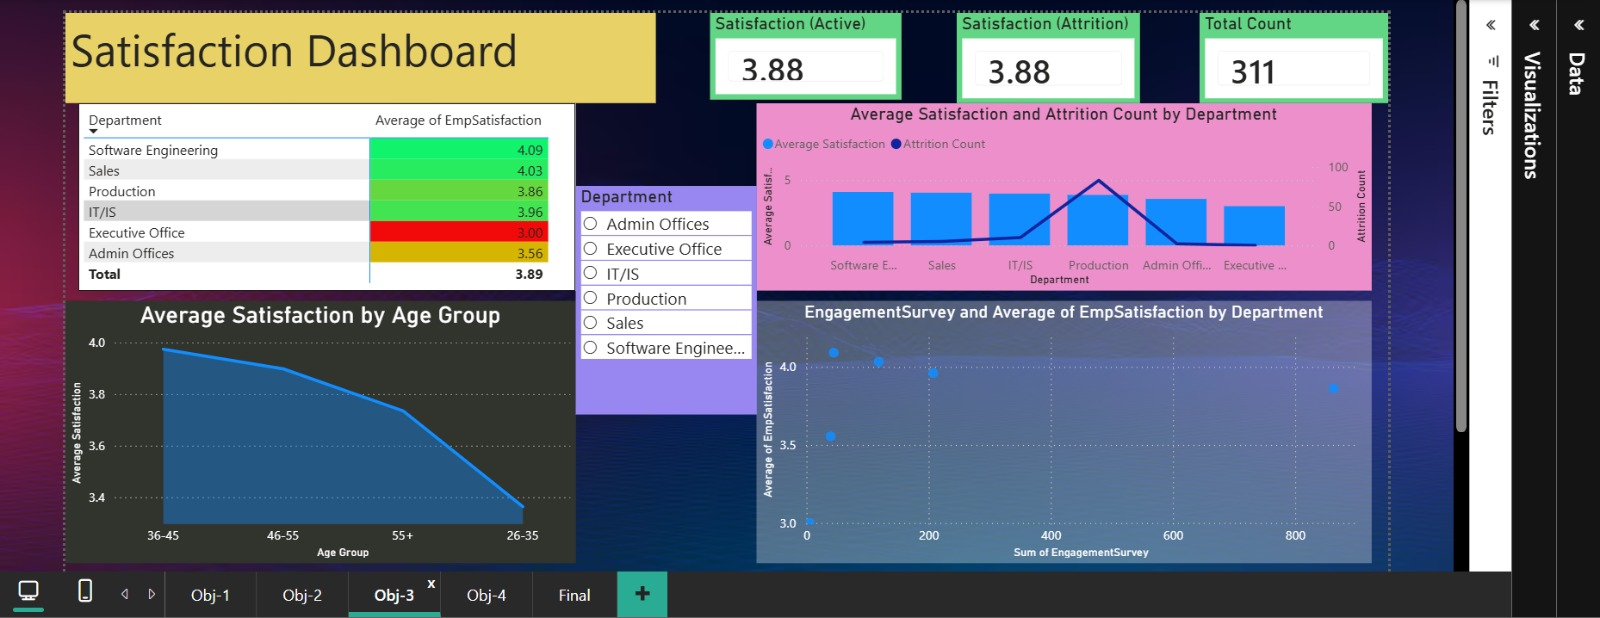

The dashboard page shown, as its layout file describes it:
{"tool":"powerbi","page":{"name":"Obj-3","canvas":[1280,720],"ordinal":2},"visuals":[{"type":"pivotTable","fields":{"Rows":["HRDataset_v14.Department"],"Values":["Avg(HRDataset_v14.EmpSatisfaction)"]},"box":[12.5,87.5,481.2,181.2],"z":0},{"type":"areaChart","fields":{"Category":["HRDataset_v14.Age Group"],"Y":["HRDataset_v14.Average Satisfaction"]},"box":[0,278.8,493.8,253.8],"z":1000},{"type":"scatterChart","title":" EngagementSurvey and Average of EmpSatisfaction by Department","fields":{"X":["Sum(HRDataset_v14.EngagementSurvey)"],"Y":["Avg(HRDataset_v14.EmpSatisfaction)"],"Category":["HRDataset_v14.Department"]},"box":[668.8,278.8,595,253.8],"z":2000},{"type":"lineClusteredColumnComboChart","fields":{"Y":["HRDataset_v14.Average Satisfaction"],"Y2":["HRDataset_v14.Attrition Count"],"Category":["HRDataset_v14.Department"]},"box":[668.8,87.5,595,181.2],"z":3000},{"type":"cardVisual","title":"Satisfaction (Attrition)","fields":{"Data":["HRDataset_v14.Satisfaction (Attrition)"]},"box":[862.5,0,177.5,87.5],"z":4000},{"type":"textbox","box":[0,0,571.2,87.5],"z":5000},{"type":"listSlicer","fields":{"Values":["HRDataset_v14.Department"]},"box":[493.8,167.5,175,221.2],"z":6000},{"type":"cardVisual","title":"Satisfaction (Active)","fields":{"Data":["HRDataset_v14.Satisfaction (Attrition)"]},"box":[623.8,0,185,83.8],"z":7000},{"type":"cardVisual","title":"Total Count","fields":{"Data":["HRDataset_v14.Total Employees"]},"box":[1097.5,0,182.5,87.5],"z":8000}]}

Visuals, with their boxes on the page's 1280x720 design canvas (x1, y1, x2, y2). These are canvas units, not pixel positions in the 1600x618 screenshot, which may show the page scaled, cropped or inside an application window:
pivotTable - HRDataset_v14.Department x Avg(HRDataset_v14.EmpSatisfaction): 12 88 494 269
areaChart - HRDataset_v14.Age Group x HRDataset_v14.Average Satisfaction: 0 279 494 533
" EngagementSurvey and Average of EmpSatisfaction by Department" scatterChart: 669 279 1264 533
lineClusteredColumnComboChart - HRDataset_v14.Average Satisfaction x HRDataset_v14.Attrition Count: 669 88 1264 269
"Satisfaction (Attrition)" cardVisual: 862 0 1040 88
textbox: 0 0 571 88
listSlicer - HRDataset_v14.Department: 494 168 669 389
"Satisfaction (Active)" cardVisual: 624 0 809 84
"Total Count" cardVisual: 1098 0 1280 88
